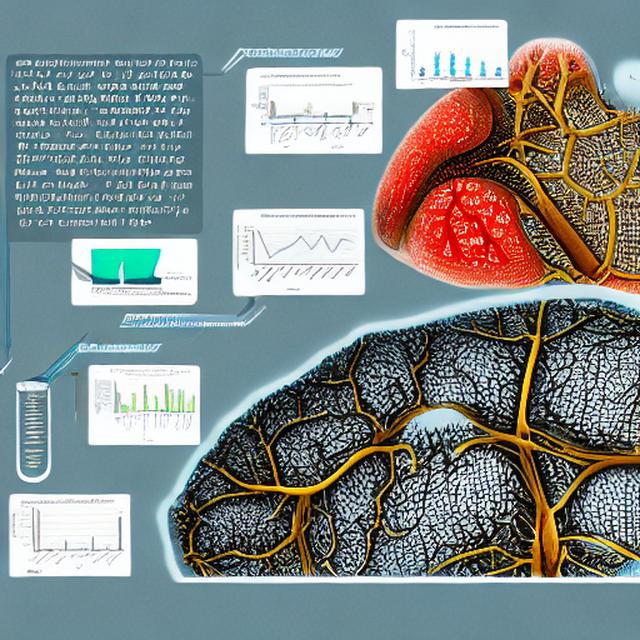Graph: (234, 210, 361, 293), (93, 368, 198, 444), (11, 499, 126, 567), (401, 24, 505, 85)
